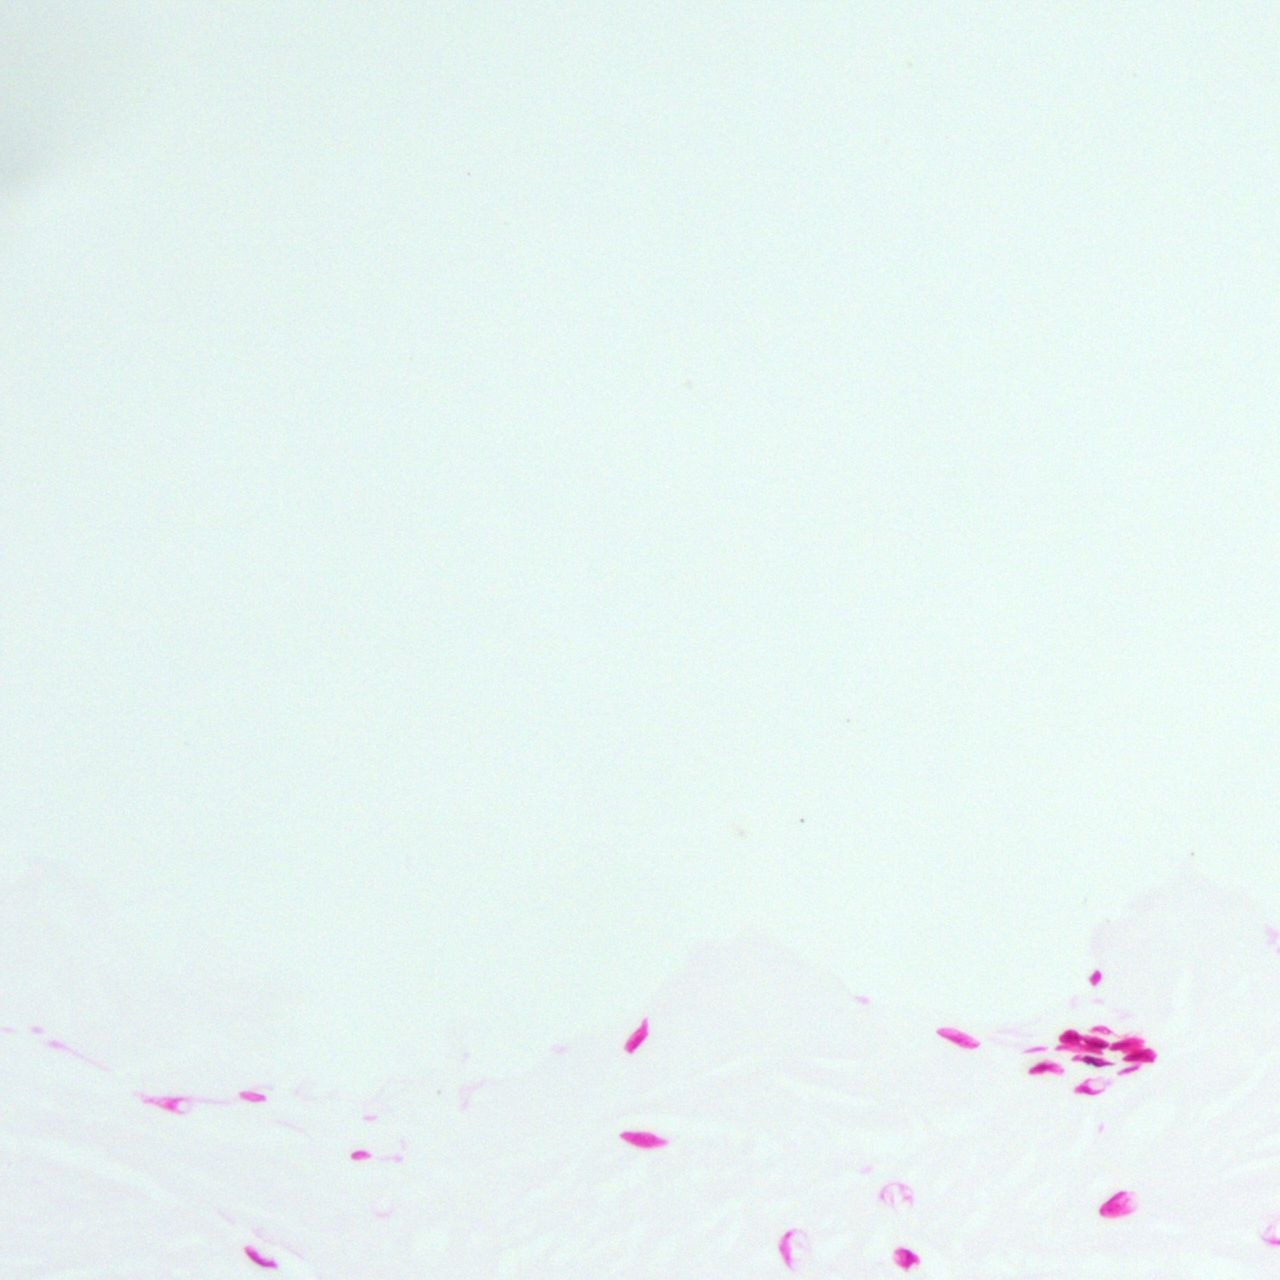nucleus-FG: (241, 1241, 279, 1275), (623, 1014, 655, 1053), (1059, 1027, 1109, 1049), (620, 1130, 667, 1148), (894, 1246, 917, 1268), (1082, 1054, 1110, 1069), (350, 1150, 368, 1159)
